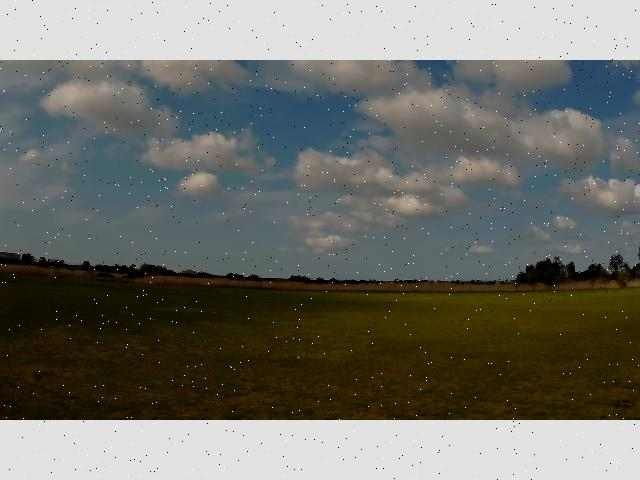Anti-Drone: (327, 190, 355, 214)
